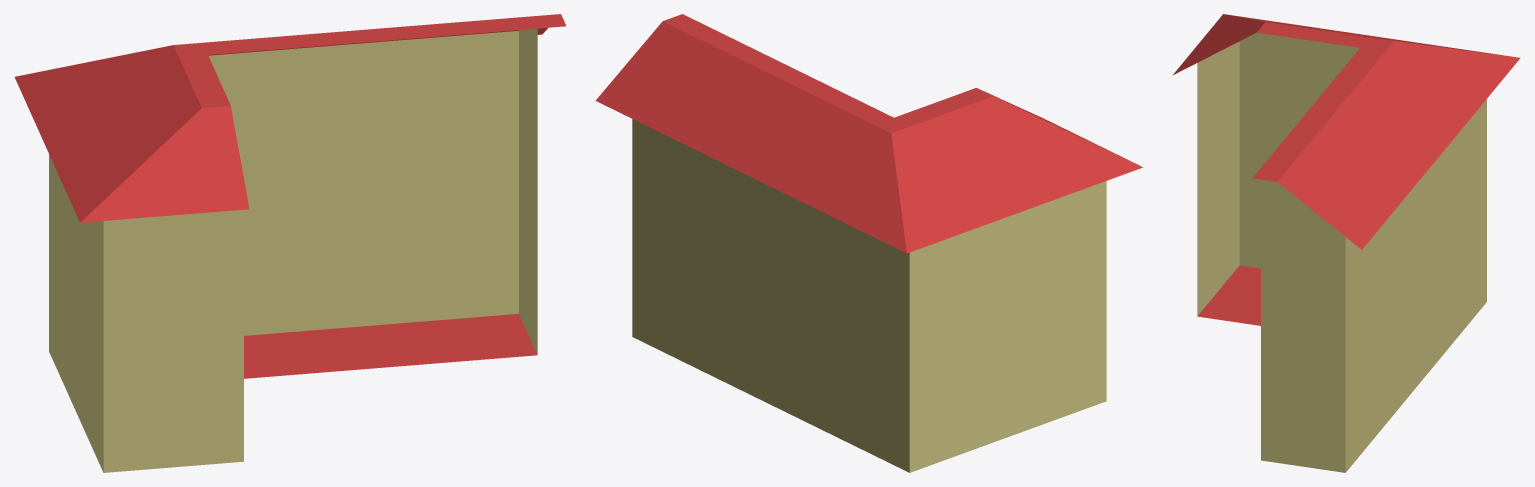
3 renders of one model, left to right at view 1: azimuth 30°, elevation 25°; view 2: azimuth 150°, elevation 25°; view 3: azimuth 270°, elevation 25°, orthographic. The views are drawn at different scales.
Size of the model in its own units: 15.8 by 9.86 by 9.14.
